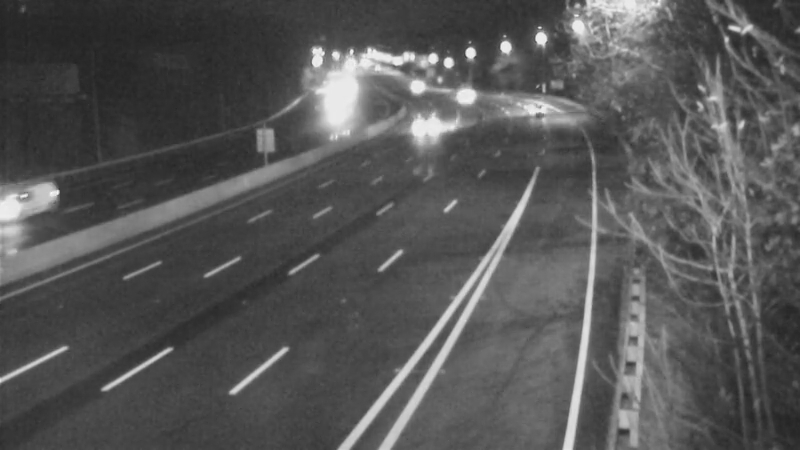vehicle: (1, 158, 73, 238), (387, 57, 437, 107), (438, 72, 488, 122), (514, 79, 564, 129), (397, 102, 447, 152), (307, 82, 357, 132)
